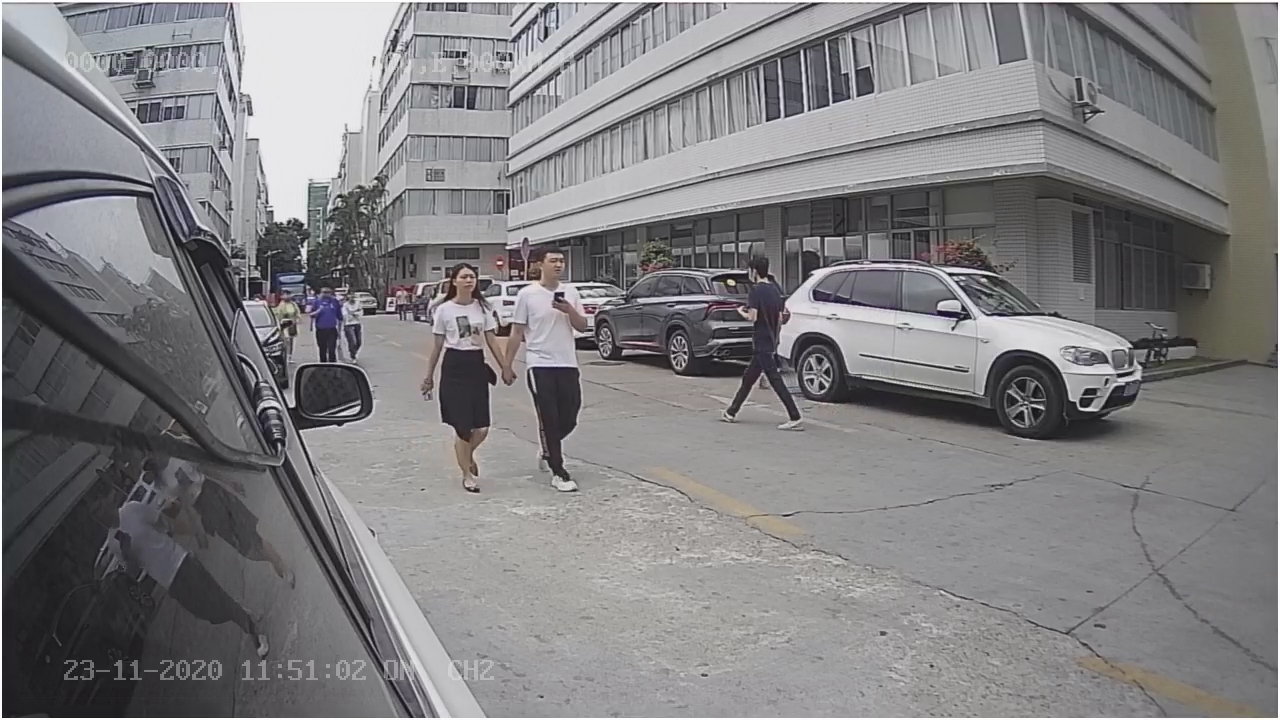person: (420, 254, 514, 495), (710, 246, 800, 429)
